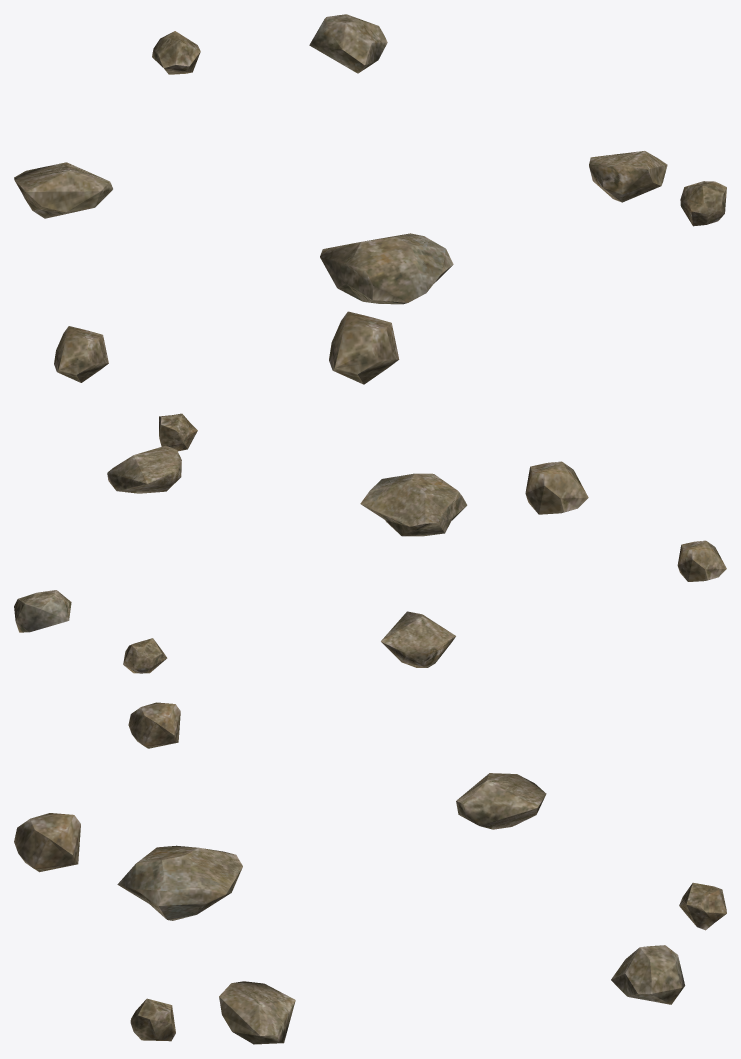
File: bg_anh_mirrorv_decostone02_sm_old.FBX
The picture shows the model from 3 angles, top to bottom: view 1: azimuth 30°, elevation 25°; view 2: azimuth 150°, elevation 25°; view 3: azimuth 270°, elevation 25°; orthographic projection. The views are drawn at different scales.
Visible parts, largest first — view 1: bg_anh_mirrorv_decostone02_sm_old; view 2: bg_anh_mirrorv_decostone02_sm_old; view 3: bg_anh_mirrorv_decostone02_sm_old.
Boxes of the visible parts, x1=… form: bg_anh_mirrorv_decostone02_sm_old: x1=14, y1=14, x2=726, y2=384; bg_anh_mirrorv_decostone02_sm_old: x1=14, y1=413, x2=726, y2=673; bg_anh_mirrorv_decostone02_sm_old: x1=14, y1=702, x2=726, y2=1044.
Size of the model in its own units: 234 by 22.59 by 221.
